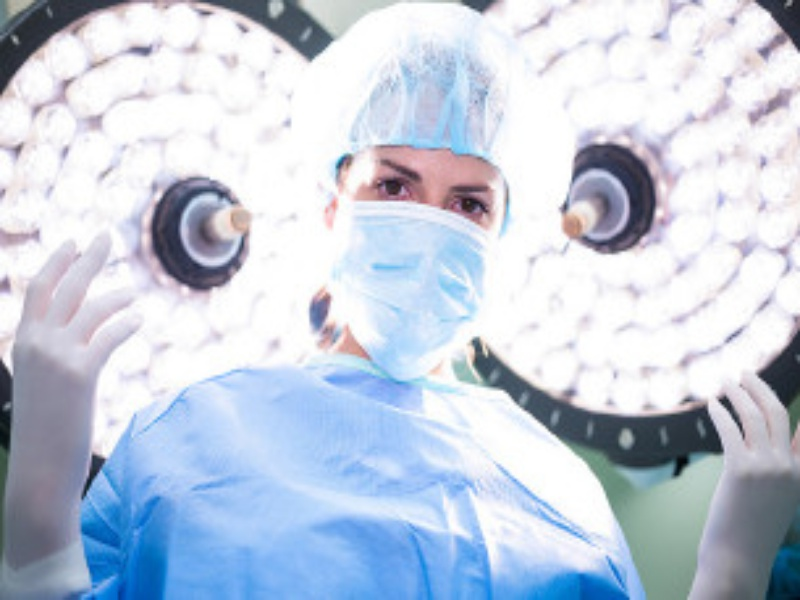mask: (283, 1, 530, 371)
